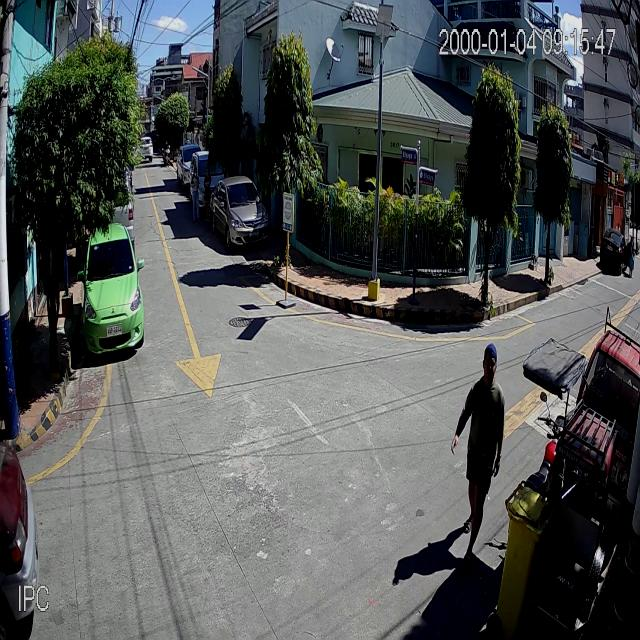walking: (451, 341, 505, 554)
